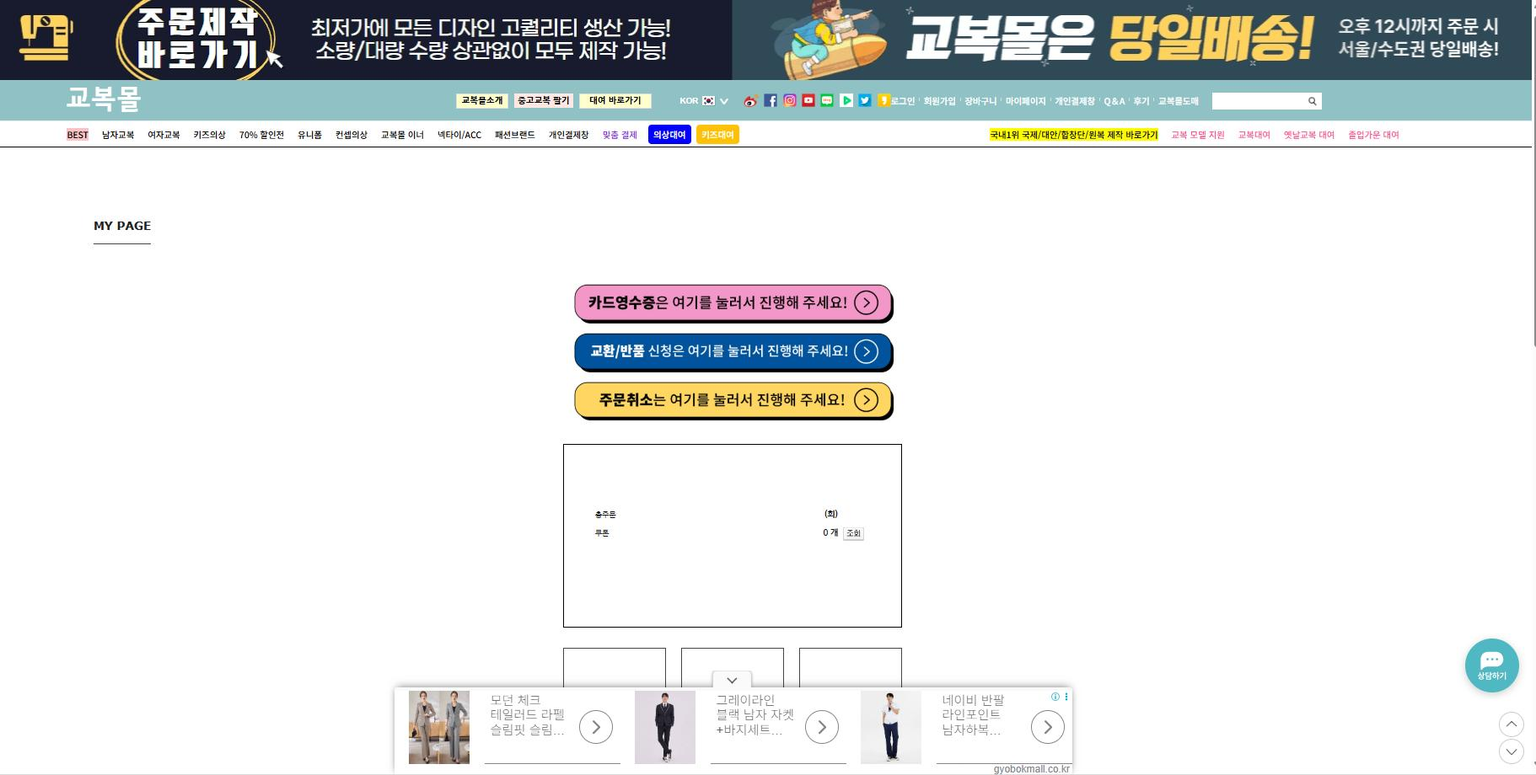button: (577, 380, 894, 424), (572, 284, 893, 325), (572, 333, 893, 371), (581, 91, 652, 109), (1345, 127, 1405, 144), (517, 92, 575, 109), (648, 123, 692, 145), (696, 124, 740, 144), (1282, 127, 1338, 142), (1171, 127, 1226, 142), (455, 92, 507, 107), (434, 126, 485, 141), (379, 125, 424, 142), (237, 127, 288, 142), (491, 126, 538, 141), (292, 126, 329, 144), (193, 123, 230, 140), (103, 127, 140, 144), (1051, 95, 1099, 107), (1005, 95, 1047, 108), (1156, 94, 1201, 106), (601, 128, 639, 142), (1236, 128, 1273, 142), (547, 129, 590, 141), (147, 128, 181, 143), (337, 127, 371, 142), (963, 95, 1000, 107), (923, 95, 957, 108), (892, 94, 917, 108), (1104, 94, 1126, 108), (742, 92, 760, 109), (763, 92, 778, 107), (801, 93, 816, 108), (838, 94, 854, 108), (783, 93, 797, 108), (820, 93, 834, 108), (858, 93, 872, 108), (1134, 95, 1150, 108), (877, 94, 889, 108)
input_field: (1210, 91, 1323, 110)
popup: (734, 1, 1531, 79), (395, 685, 1076, 775), (0, 0, 725, 75)
